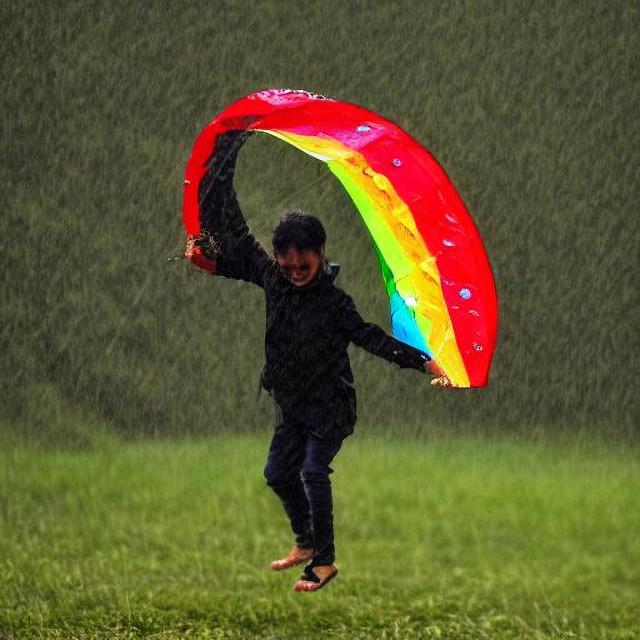floating object: (168, 81, 497, 403)
